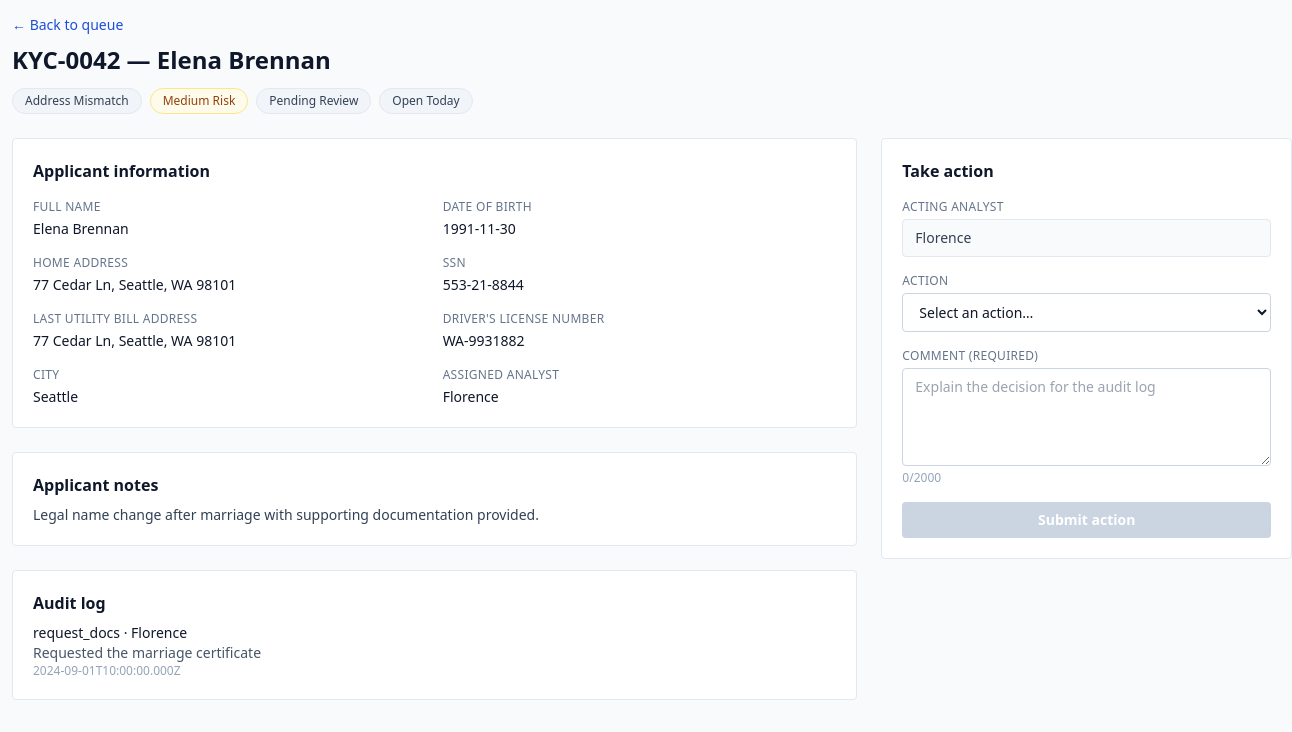
Test: CaseDetail › surfaces an API error to the analyst
The width and height of the screenshot is (1292, 732).
Select "Approve" in the dropdown labelled "Action" at coordinates (1087, 312), box x1=902 y1=293 x2=1271 y2=332
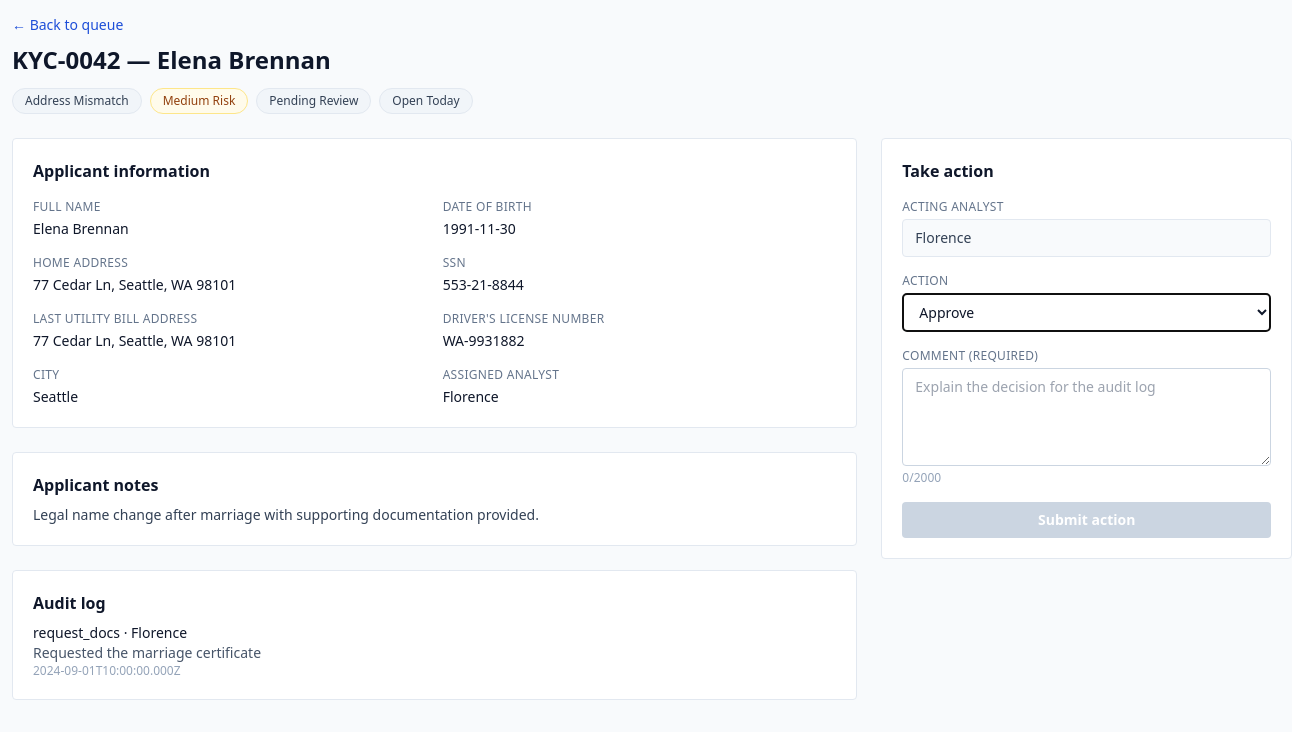
Type "x" into the text box labelled "Comment (required)".
click(1087, 417); type("x")  # box x1=902 y1=368 x2=1271 y2=466
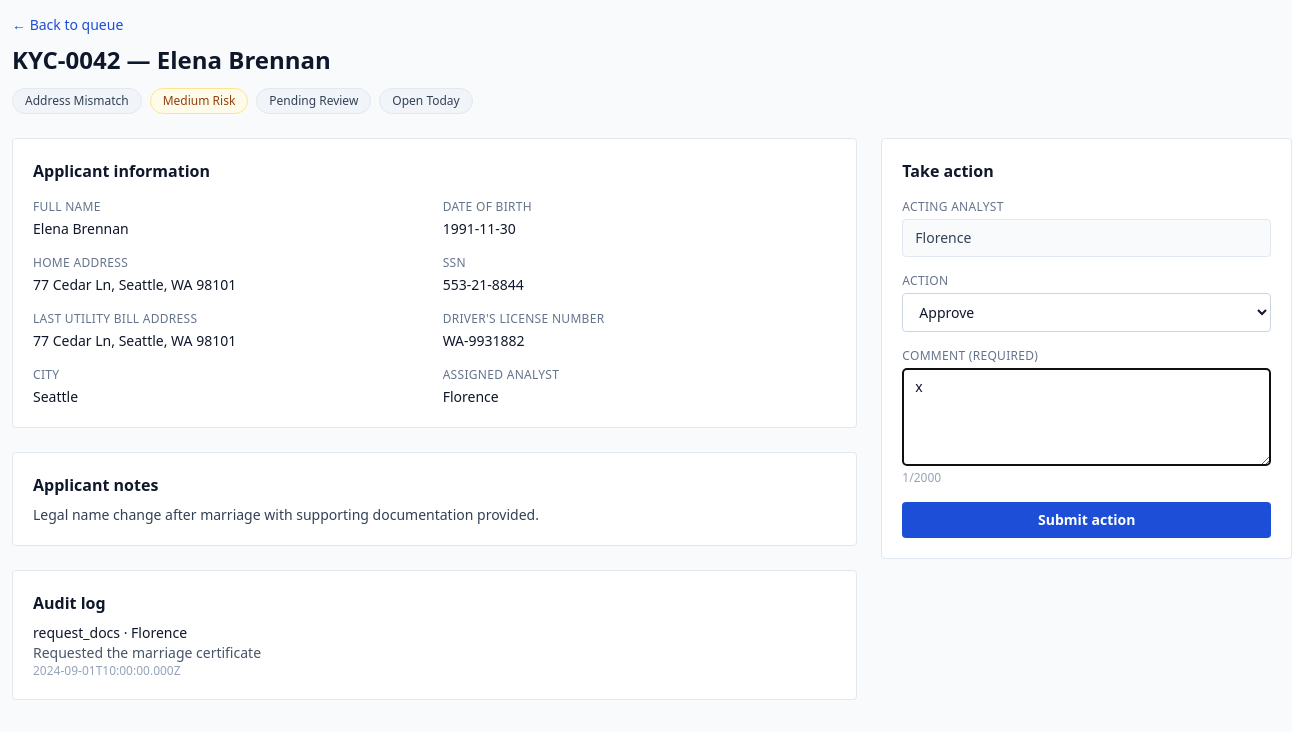
Click the button "Submit action".
click(1087, 520)  # box x1=902 y1=502 x2=1271 y2=538
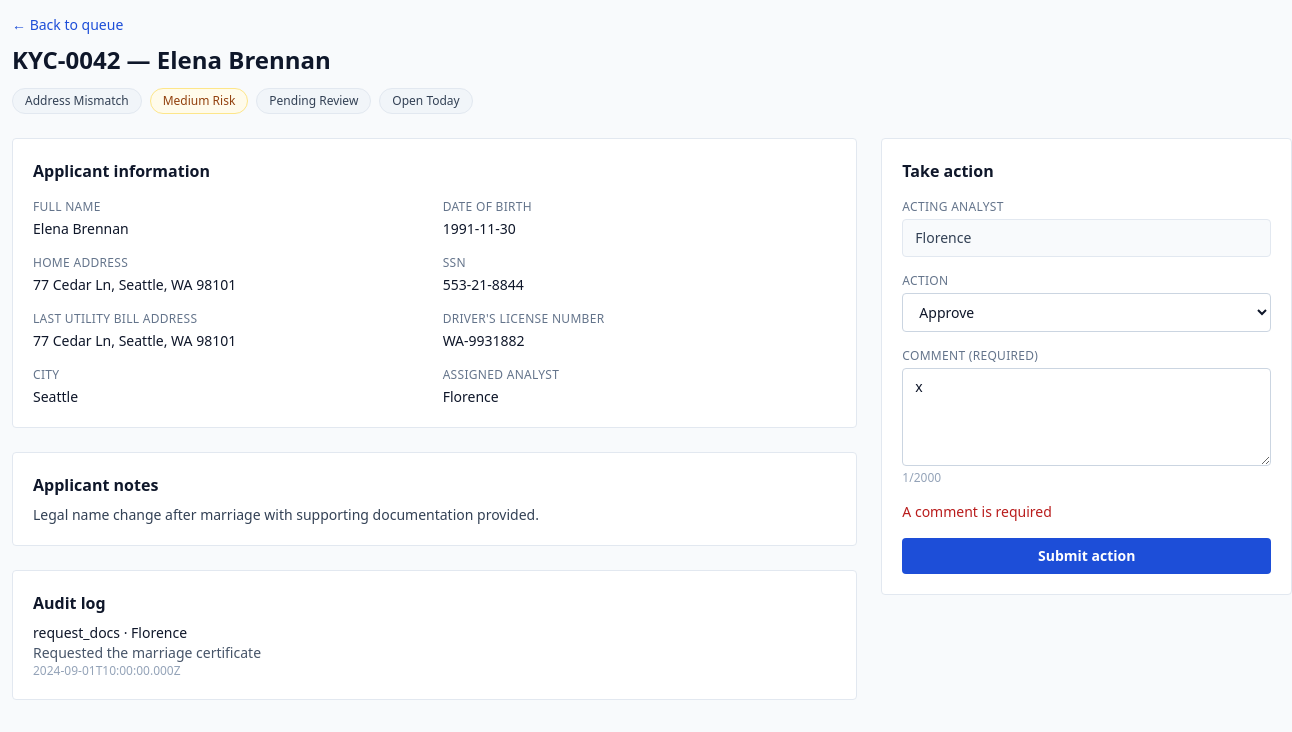
Result: the message reads "A comment is required" at x1=902 y1=502 x2=1052 y2=521
